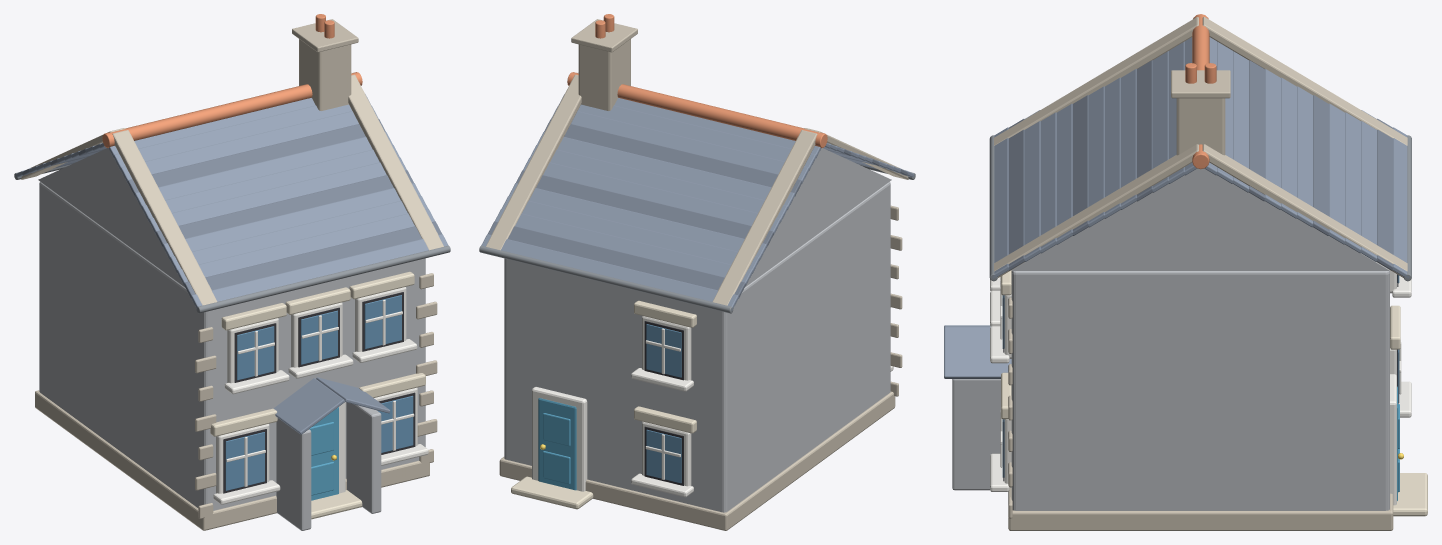
The model's file is cottage_b.fbx.
3 views of the same model, side by side, from view 1: azimuth 30°, elevation 25°; view 2: azimuth 150°, elevation 25°; view 3: azimuth 270°, elevation 25° (orthographic). The views are drawn at different scales.
Parts seen in each view (by area): view 1: Visual; view 2: Visual; view 3: Visual.
Boxes of the visible parts, x1,y1,x2,y2 form: Visual: (14,14,450,530); Visual: (479,14,915,530); Visual: (944,14,1427,530).
Size of what is drawn, in the model's own units: 615 by 933 by 895.
